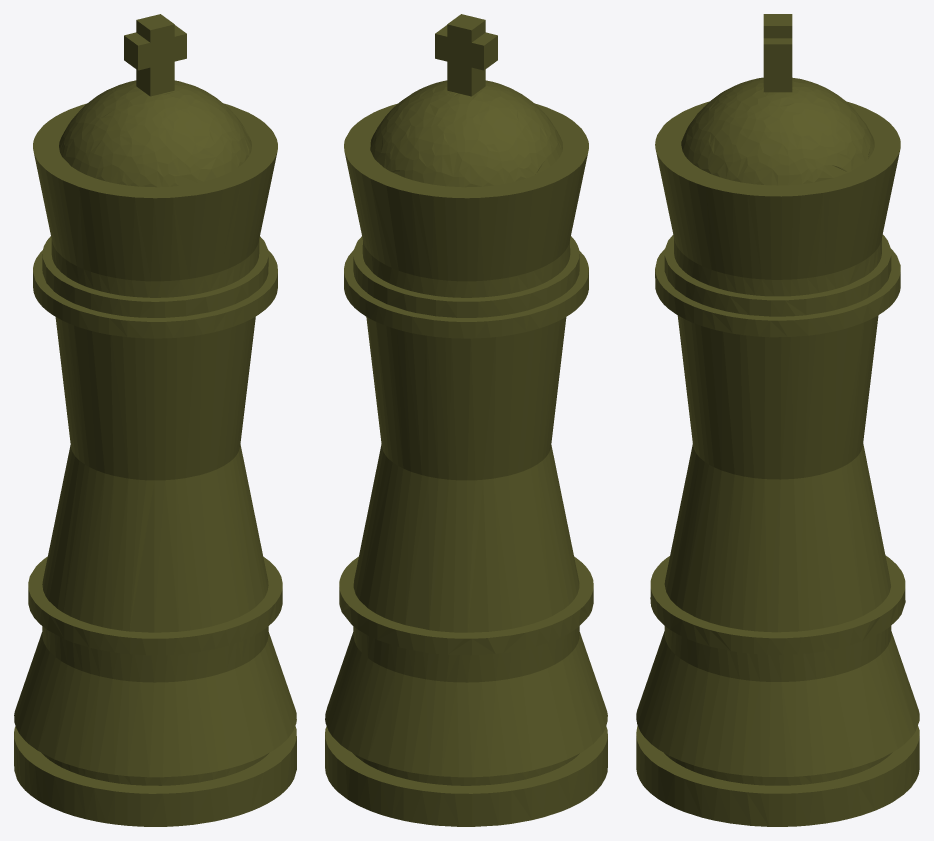
The model's file is rey.glb.
3 renders of one model, left to right at view 1: azimuth 30°, elevation 25°; view 2: azimuth 150°, elevation 25°; view 3: azimuth 270°, elevation 25°, orthographic.
Visible parts, largest first — view 1: Mesh_Mesh_head_geo.001_lambert2SG.001; view 2: Mesh_Mesh_head_geo.001_lambert2SG.001; view 3: Mesh_Mesh_head_geo.001_lambert2SG.001.
Boxes of the visible parts, x1=… form: Mesh_Mesh_head_geo.001_lambert2SG.001: x1=14, y1=14, x2=296, y2=826; Mesh_Mesh_head_geo.001_lambert2SG.001: x1=325, y1=14, x2=607, y2=826; Mesh_Mesh_head_geo.001_lambert2SG.001: x1=636, y1=14, x2=919, y2=826.
Bounding box in the file's own units: 0.032 × 0.093 × 0.032.
